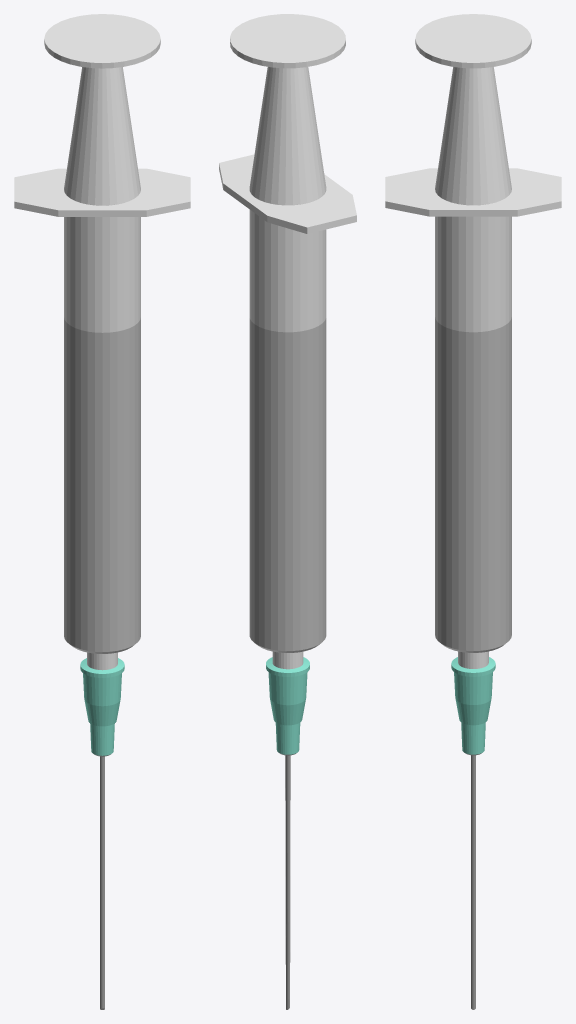
Rendered from seringue.obj.
3 views of the same model, side by side, from view 1: azimuth 90°, elevation 25°; view 2: azimuth 210°, elevation 25°; view 3: azimuth 270°, elevation 25° (orthographic).
Visible parts, largest first — view 1: Cylinder; view 2: Cylinder; view 3: Cylinder.
Boxes of the visible parts, x1,y1,x2,y2 form: Cylinder: (14,14,190,1009); Cylinder: (219,14,356,1009); Cylinder: (385,14,561,1009).
Bounding box in the file's own units: 0.0532 × 0.4907 × 0.0808.
